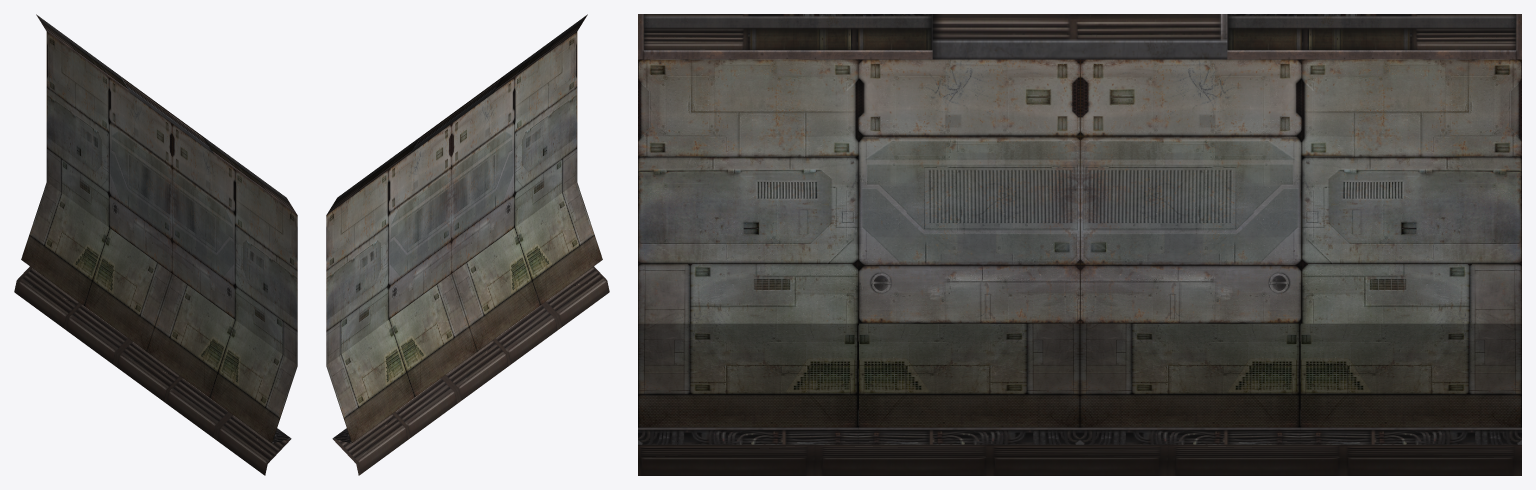
Rendered from ARC_Wall_Lower_01_A.FBX.
3 renders of one model, left to right at view 1: azimuth 30°, elevation 25°; view 2: azimuth 150°, elevation 25°; view 3: azimuth 270°, elevation 25°, orthographic. The views are drawn at different scales.
Visible parts, largest first — view 1: ARC_Wall_Lower_01_A; view 2: ARC_Wall_Lower_01_A; view 3: ARC_Wall_Lower_01_A.
Part boxes in pixels (x1,y1,x2,y2): ARC_Wall_Lower_01_A: (14, 14, 297, 475); ARC_Wall_Lower_01_A: (326, 14, 609, 475); ARC_Wall_Lower_01_A: (638, 14, 1521, 475).
Size of the model in its own units: 37.5 by 300 by 500.
Materials: 1 (1 with a texture image).
